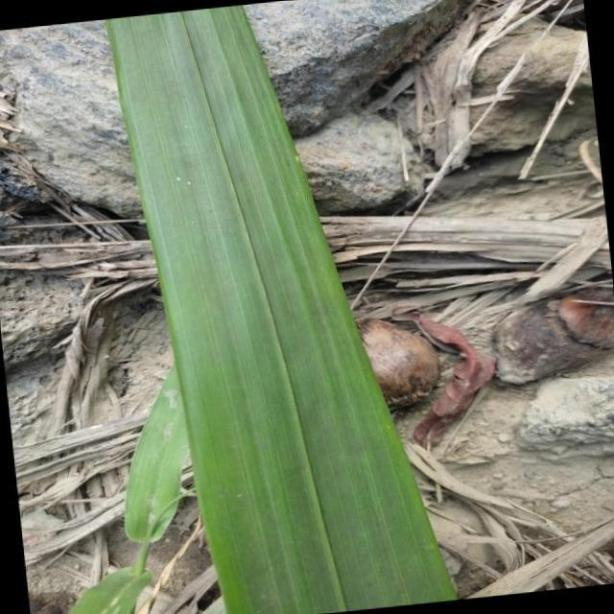Healthy: (104, 10, 459, 608)
